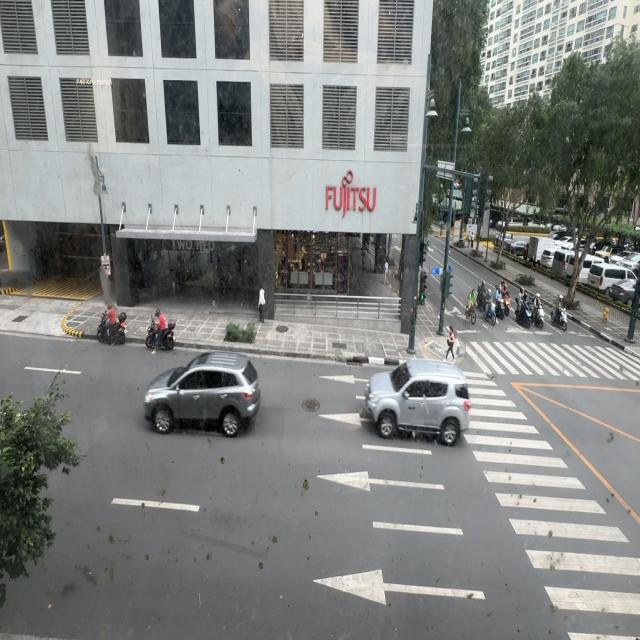crossing: (445, 323, 455, 362)
